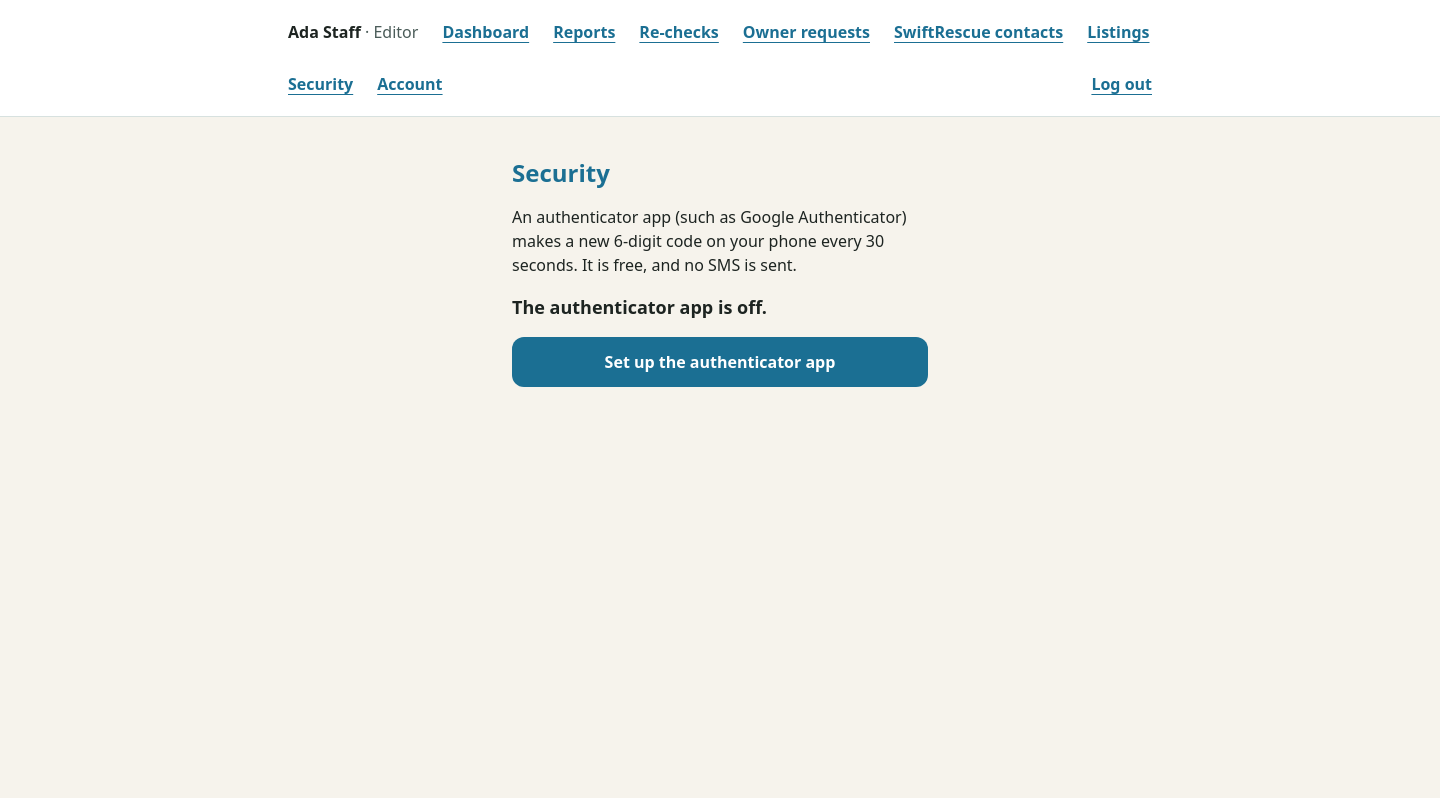
Scenario: switching it on › has the shared show / hide eye on the password step, and the password is hidden again once it was sent
expect the heading "Security" is shown: met, box top-left (512, 156), bottom-right (610, 189)
Click the button "Set up the authenticator app" at (720, 362), box top-left (512, 337), bottom-right (928, 387)
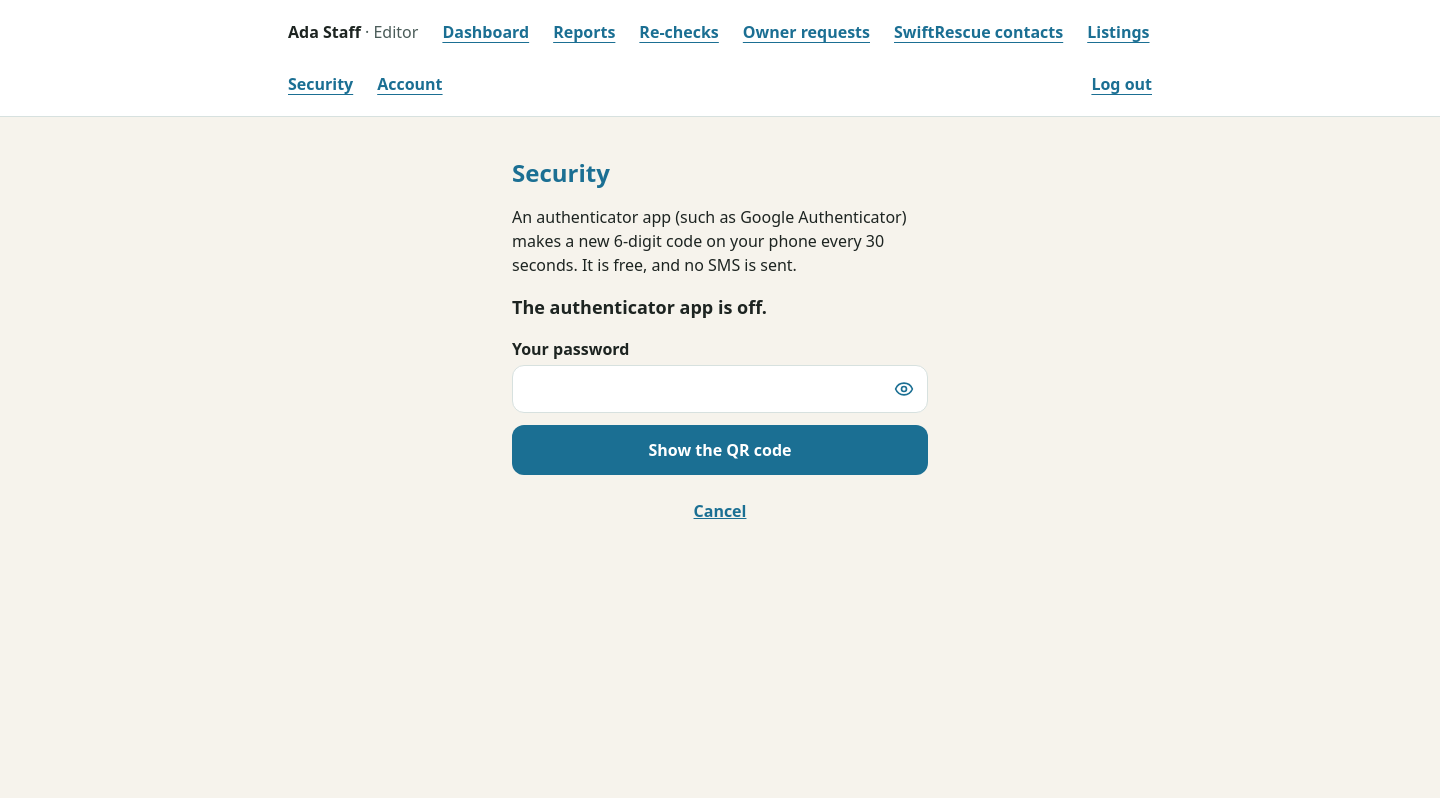
Click the button named "Show password" at (904, 389), box top-left (880, 365), bottom-right (928, 413)
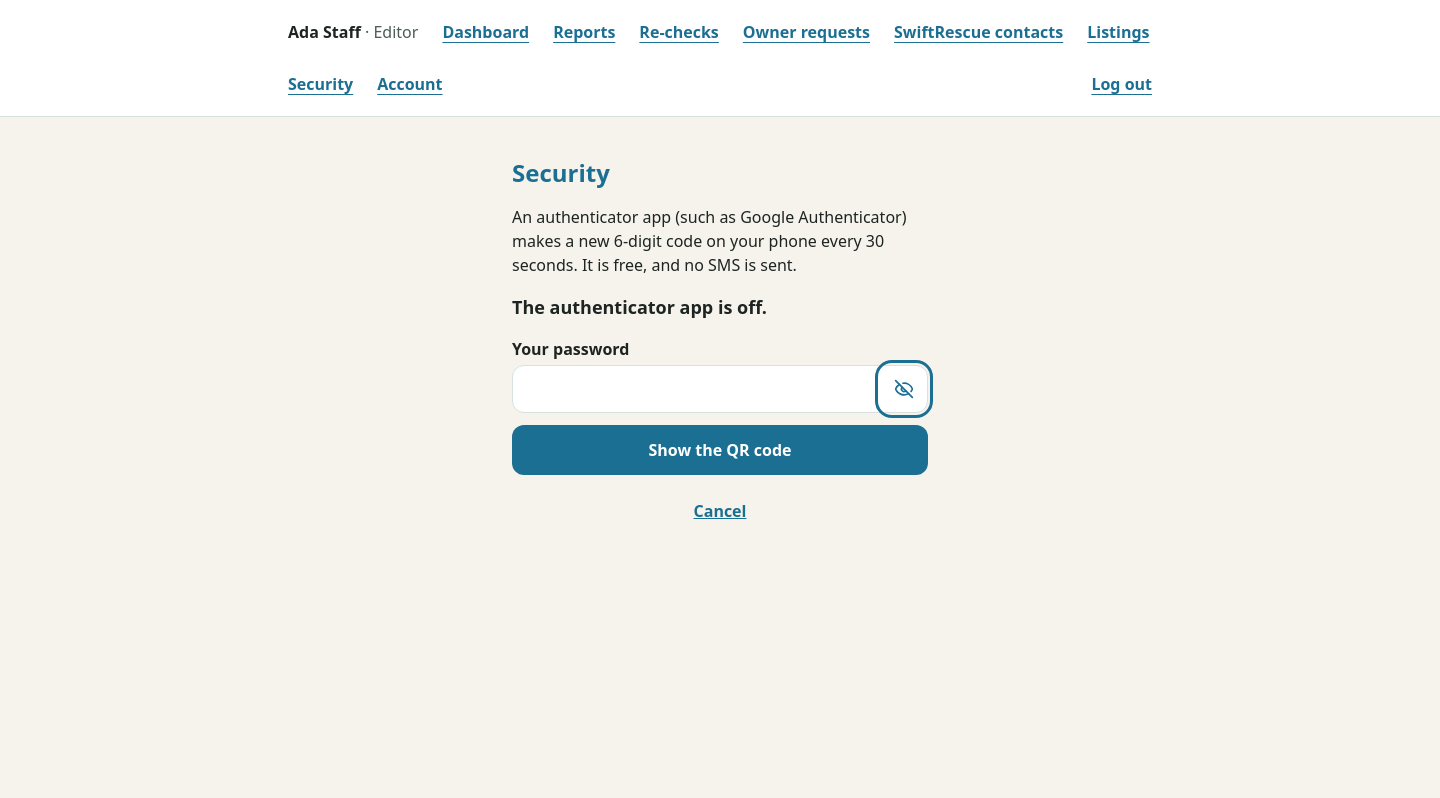
Type "my-password" into the field labelled "Your password" at (720, 389), box top-left (512, 365), bottom-right (928, 413)
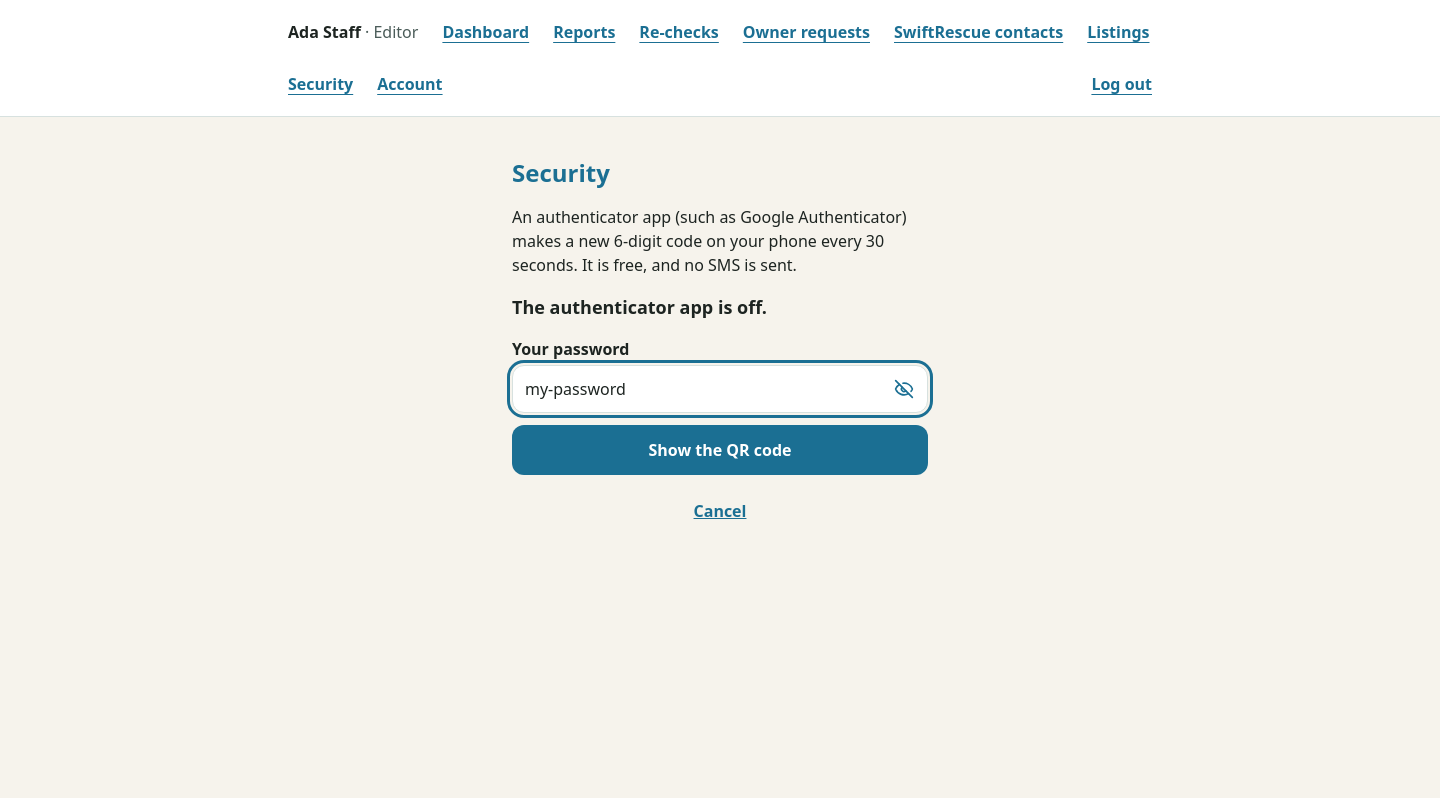
Click the button "Show the QR code" at (720, 450), box top-left (512, 425), bottom-right (928, 475)
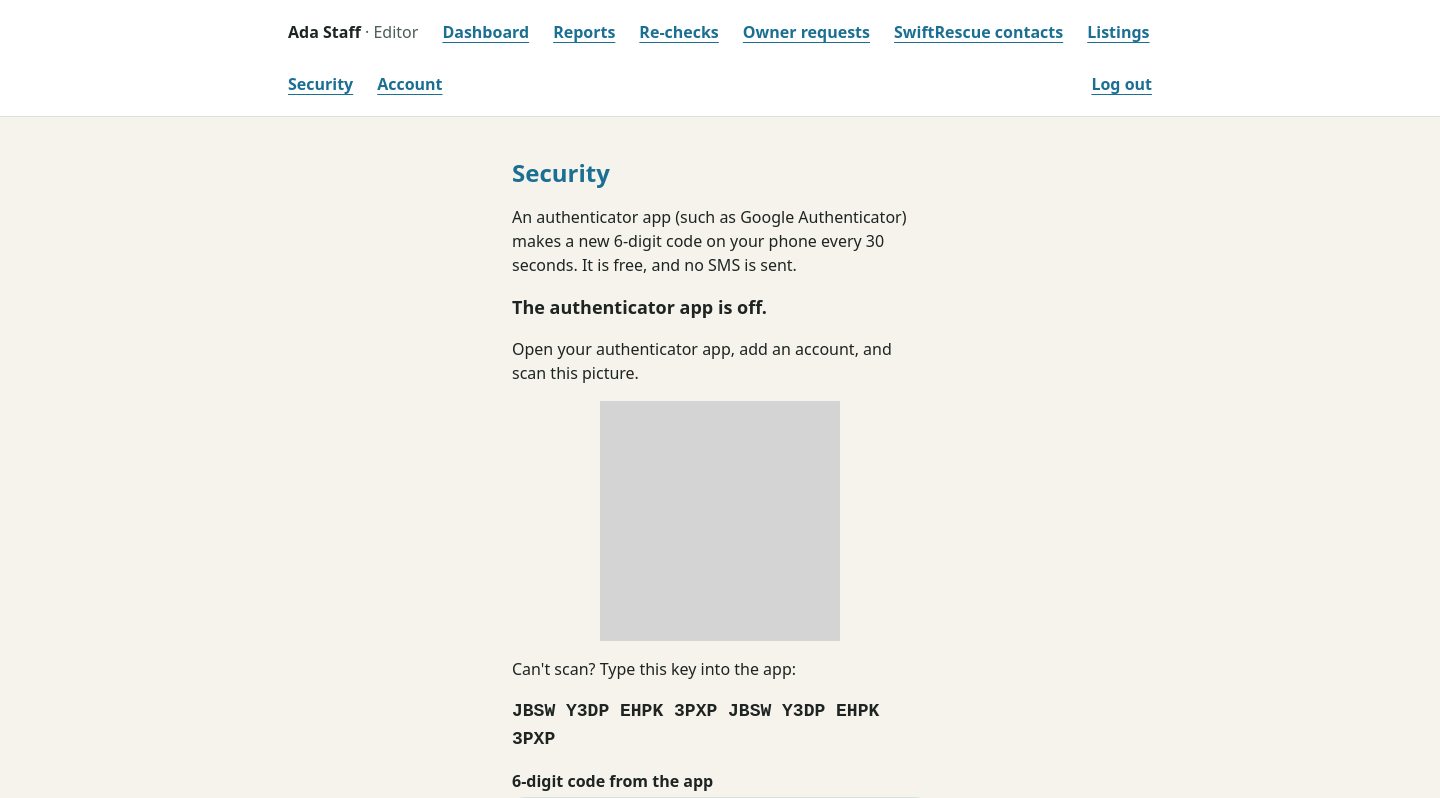
expect the label labelled "Your password" is gone: met
